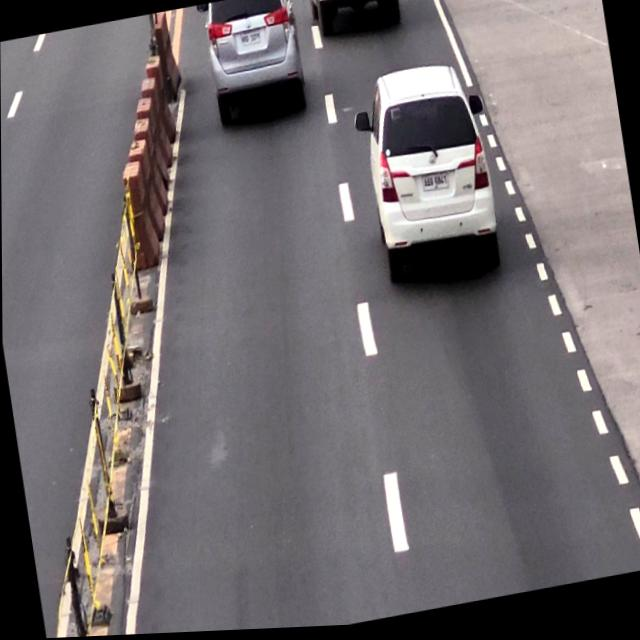Car: (361, 62, 499, 280), (198, 0, 309, 126)
License-Plate: (422, 173, 449, 197), (238, 32, 263, 50)
